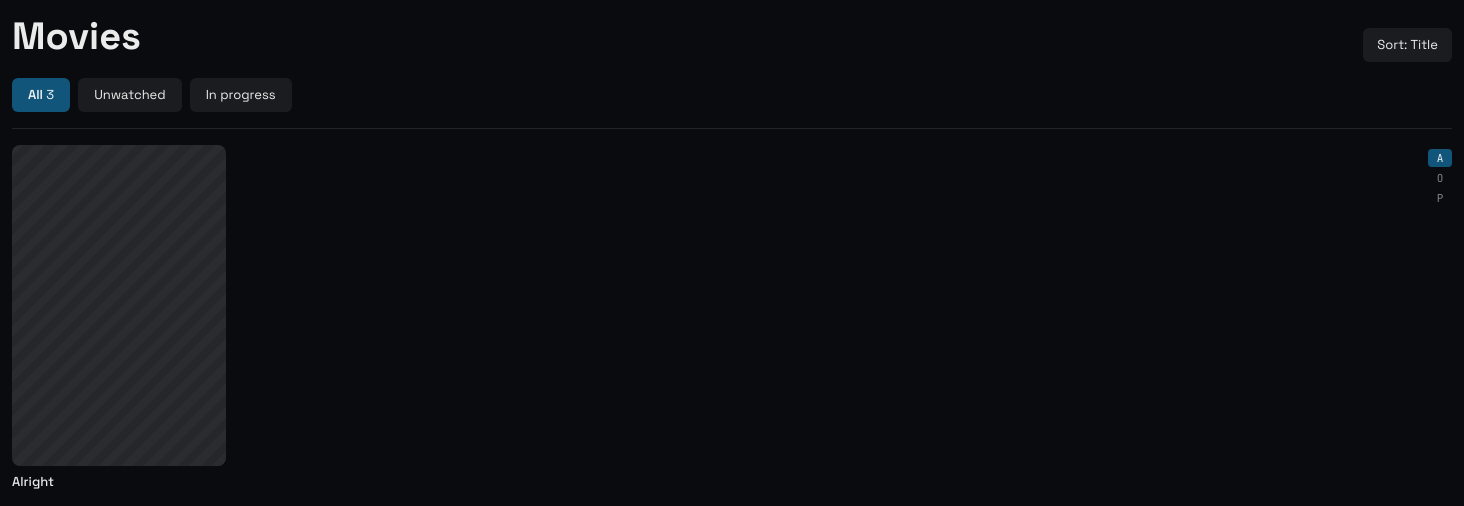
Test: LibraryScreen › highlights the pressed letter when its first title shares the top row with the letter before it
The width and height of the screenshot is (1464, 506).
Expected: the text "Alright" is shown, x1=12 y1=473 x2=54 y2=490
Step 1. Click the button "P" → (1440, 198), box x1=1428 y1=189 x2=1452 y2=207
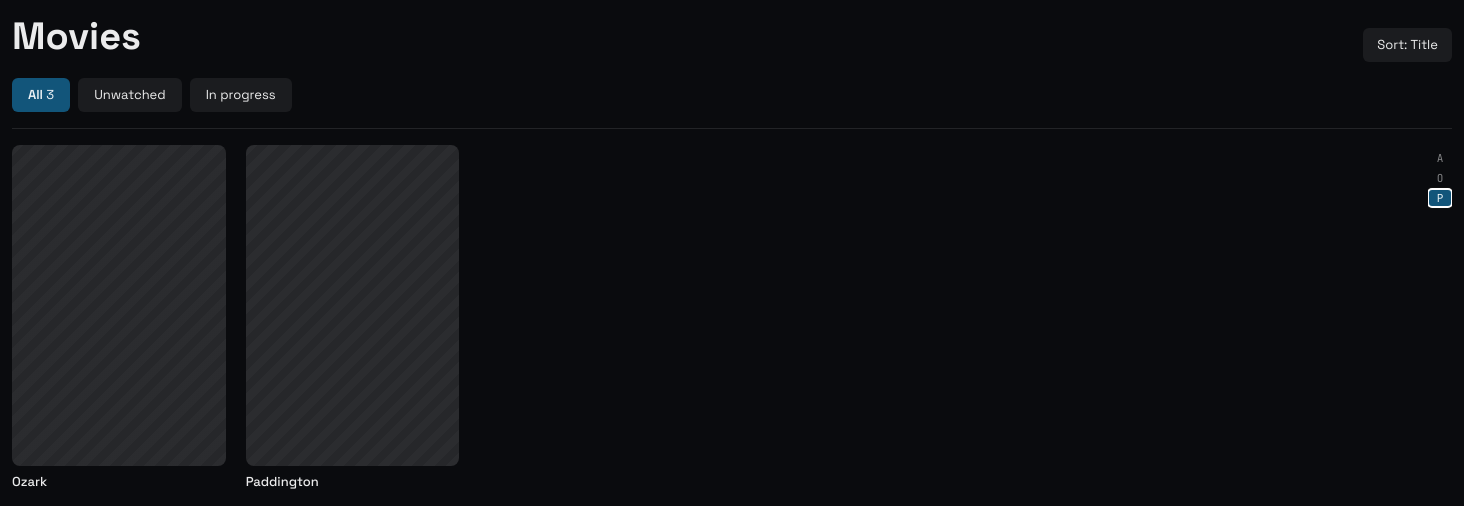
Now the text "Ozark" is shown, box x1=12 y1=473 x2=47 y2=490
Now the text "Paddington" is shown, box x1=246 y1=473 x2=319 y2=490
